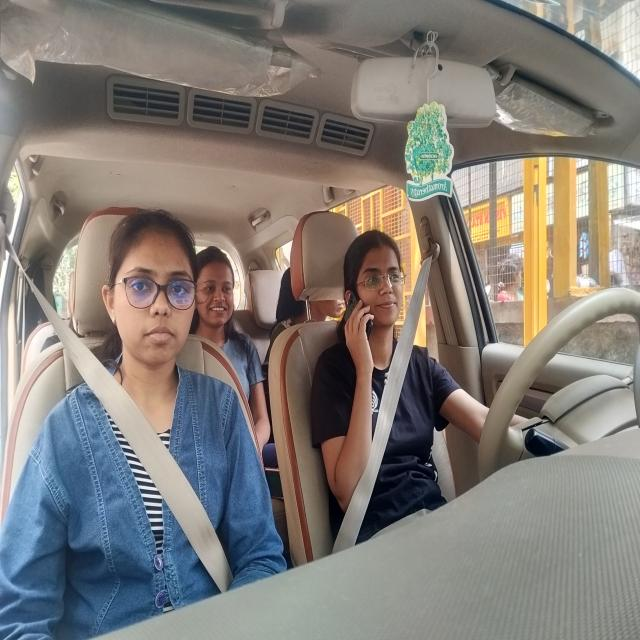mobile: (337, 289, 373, 344)
person: (100, 210, 196, 370), (340, 222, 410, 342), (190, 241, 240, 332)
